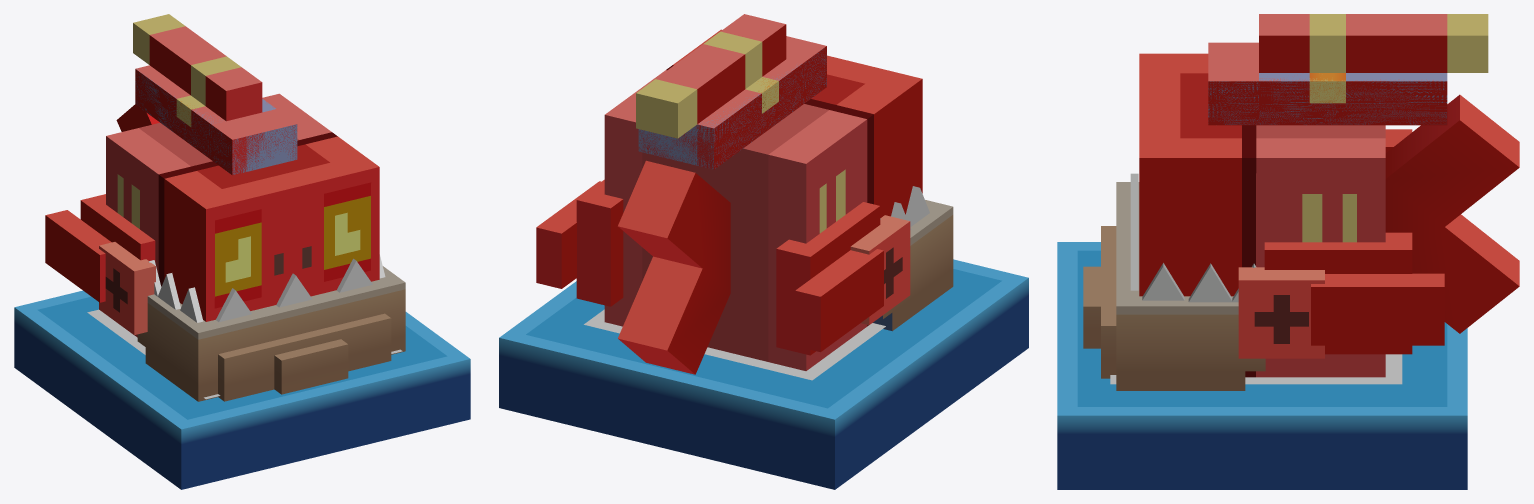
Rendered from Tower_Toes_LVL5.fbx.
3 renders of one model, left to right at view 1: azimuth 30°, elevation 25°; view 2: azimuth 150°, elevation 25°; view 3: azimuth 270°, elevation 25°, orthographic. The views are drawn at different scales.
Visible parts, largest first — view 1: Base, Body, Jaw, Fin_03, Fin_02, Screw1, Shadow, RearFin; view 2: Base, Body, Fin_03, RearFin, Fin_02, Fin_01, Jaw, Screw1, Shadow; view 3: Base, Body, Fin_03, Jaw, RearFin, Fin_01, Screw2, Shadow.
Boxes of the visible parts, bbox=[...] form: Base: bbox=[14, 290, 470, 489]; Body: bbox=[106, 93, 379, 337]; Jaw: bbox=[137, 254, 405, 401]; Fin_03: bbox=[133, 14, 297, 175]; Fin_02: bbox=[45, 194, 155, 302]; Screw1: bbox=[99, 242, 155, 335]; Shadow: bbox=[87, 309, 402, 399]; RearFin: bbox=[116, 104, 159, 131]; Base: bbox=[499, 259, 1028, 489]; Body: bbox=[604, 29, 922, 370]; Fin_03: bbox=[636, 14, 826, 169]; RearFin: bbox=[618, 160, 730, 374]; Fin_02: bbox=[776, 202, 883, 355]; Fin_01: bbox=[536, 180, 623, 306]; Jaw: bbox=[873, 186, 953, 331]; Screw1: bbox=[850, 215, 910, 324]; Shadow: bbox=[584, 309, 885, 380]; Base: bbox=[1057, 242, 1467, 489]; Body: bbox=[1139, 53, 1385, 377]; Fin_03: bbox=[1208, 14, 1488, 125]; Jaw: bbox=[1083, 173, 1265, 390]; RearFin: bbox=[1385, 94, 1519, 333]; Fin_01: bbox=[1264, 232, 1444, 354]; Screw2: bbox=[1238, 267, 1324, 358]; Shadow: bbox=[1110, 354, 1402, 384].
Bounding box in the file's own units: 100 × 102 × 113.
